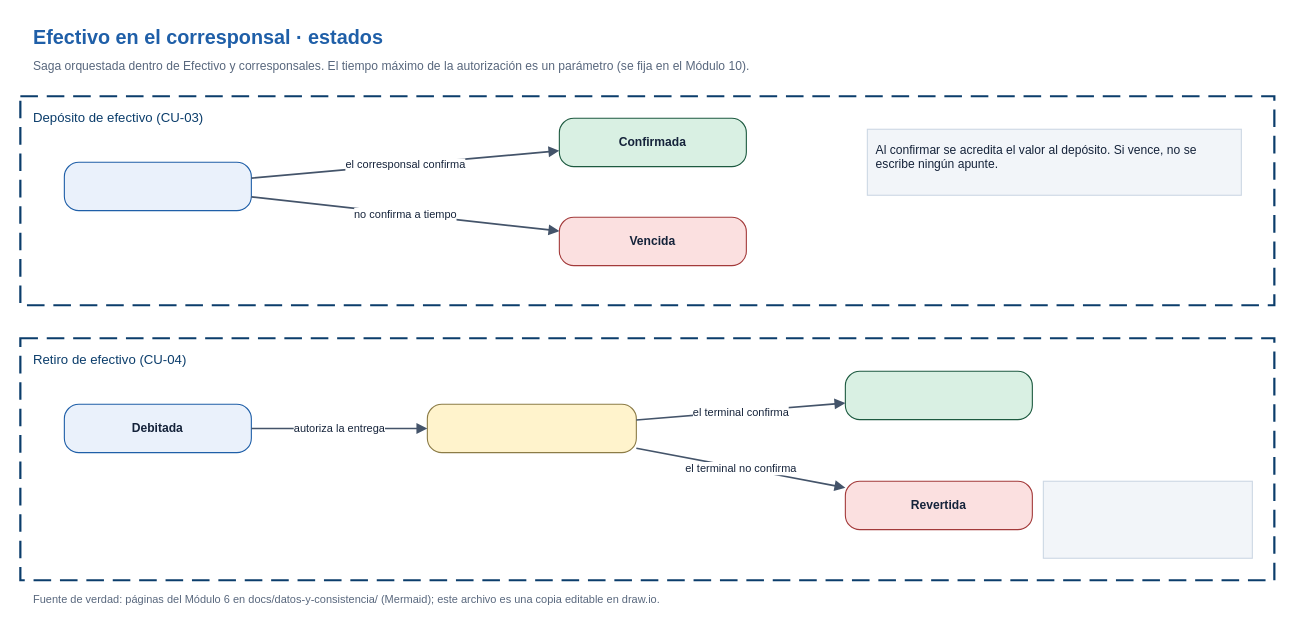
The diagram is 1294 pixels wide and 630 high, and some of its shapes have lost their labels. Here are the shapes that lost their labels. From the top down, the box of each, then its label:
(63, 161, 251, 211): Autorizada
(844, 370, 1032, 420): Entregada
(426, 403, 636, 453): Entrega autorizada
(1042, 480, 1252, 558): Revertida: un movimiento contrario anula el débito (compensación).
